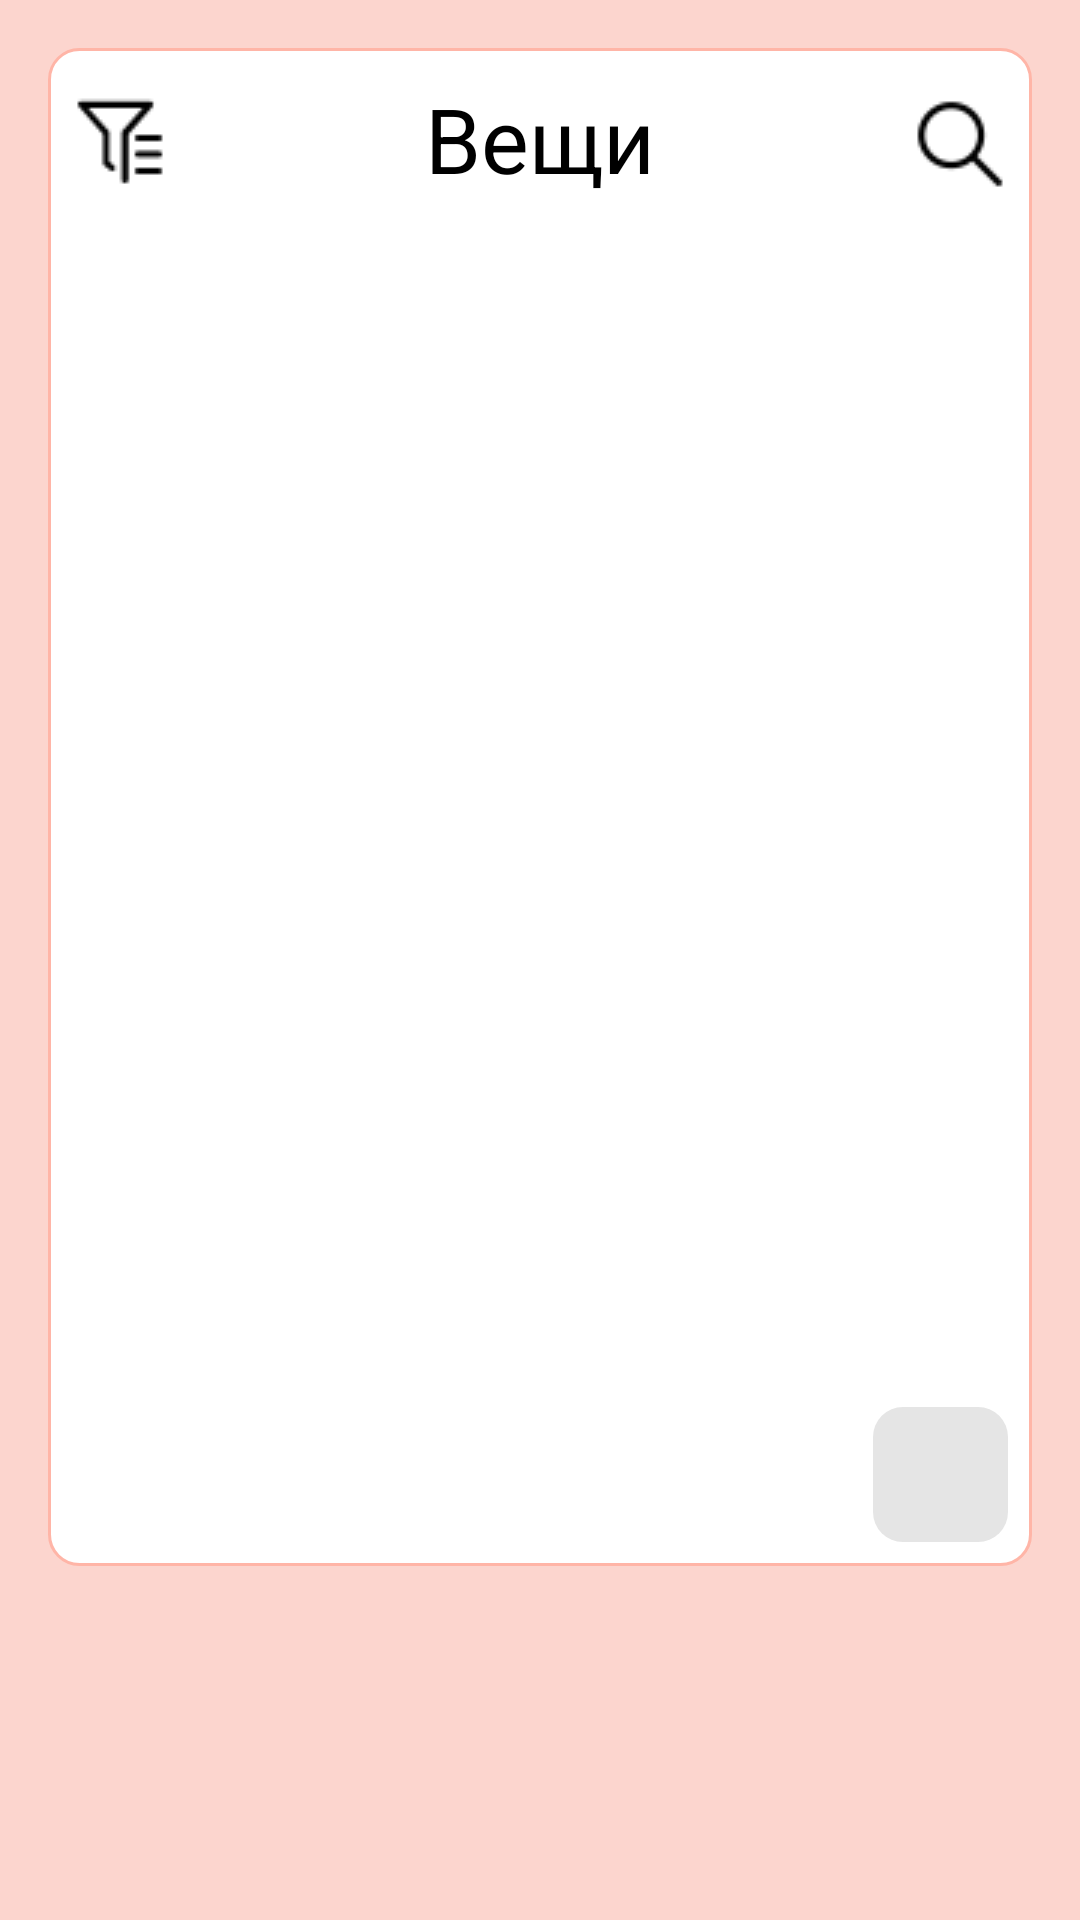

Screen size 1080×1920. Icon name, then its center in pixels as (x,y):
filter: (120,141)
search: (960,144)
